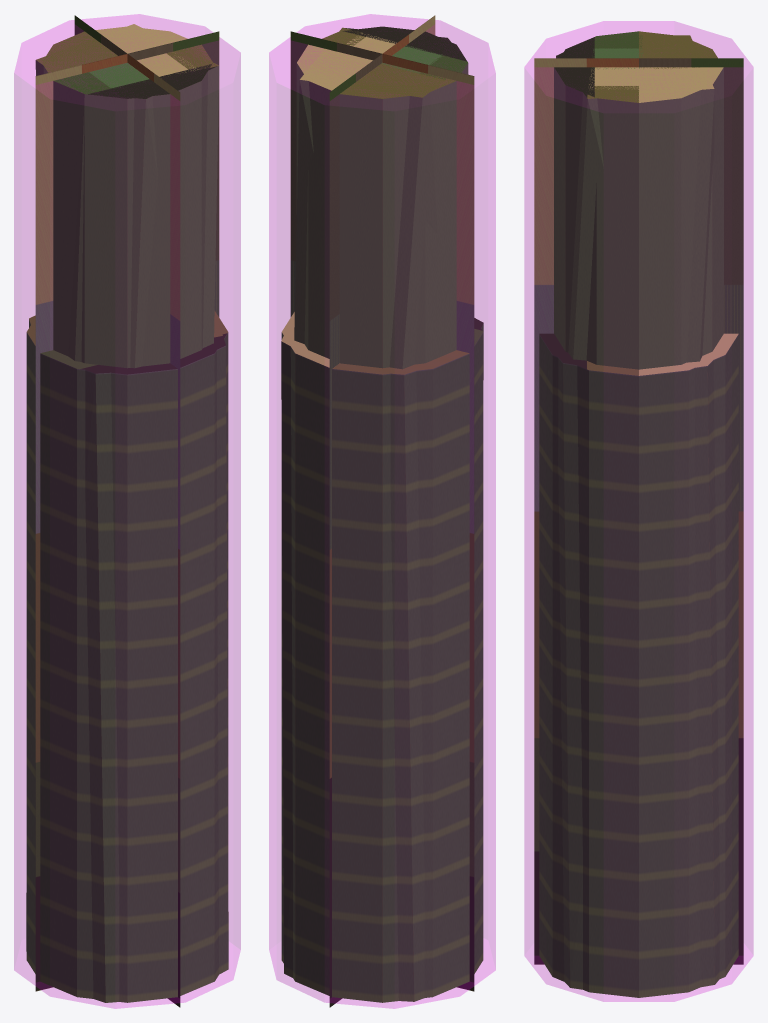
The model's file is saguaro_small.dae.
3 renders of one model, left to right at view 1: azimuth 30°, elevation 25°; view 2: azimuth 150°, elevation 25°; view 3: azimuth 270°, elevation 25°, orthographic.
Parts seen in each view (by area): view 1: Colmesh_trunk-1, saguaro_small_a800, saguaro_small_a200, saguaro_small_a50; view 2: Colmesh_trunk-1, saguaro_small_a800, saguaro_small_a200, saguaro_small_a50; view 3: Colmesh_trunk-1, saguaro_small_a800, saguaro_small_a200, saguaro_small_a50.
Boxes of the visible parts, <box> form: Colmesh_trunk-1: <box>14,14,240,1008</box>; saguaro_small_a800: <box>26,26,228,1002</box>; saguaro_small_a200: <box>26,24,228,1002</box>; saguaro_small_a50: <box>35,15,219,1007</box>; Colmesh_trunk-1: <box>269,14,495,1008</box>; saguaro_small_a800: <box>281,26,483,1002</box>; saguaro_small_a200: <box>281,27,483,1001</box>; saguaro_small_a50: <box>290,15,474,1007</box>; Colmesh_trunk-1: <box>524,21,753,1001</box>; saguaro_small_a800: <box>539,31,738,997</box>; saguaro_small_a200: <box>541,35,736,989</box>; saguaro_small_a50: <box>534,58,743,964</box>.
Size of the model in its own units: 0.49 by 0.5152 by 2.24.
2 materials, 1 textured.
